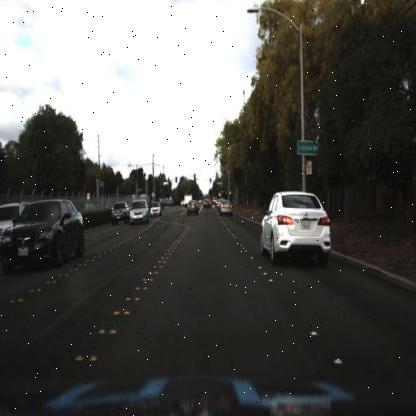car: (256, 181, 333, 272), (3, 200, 86, 270), (106, 196, 132, 229), (126, 197, 151, 226), (146, 198, 164, 221), (184, 194, 200, 217), (217, 196, 234, 214), (202, 196, 216, 212)
truck: (182, 191, 194, 210)
